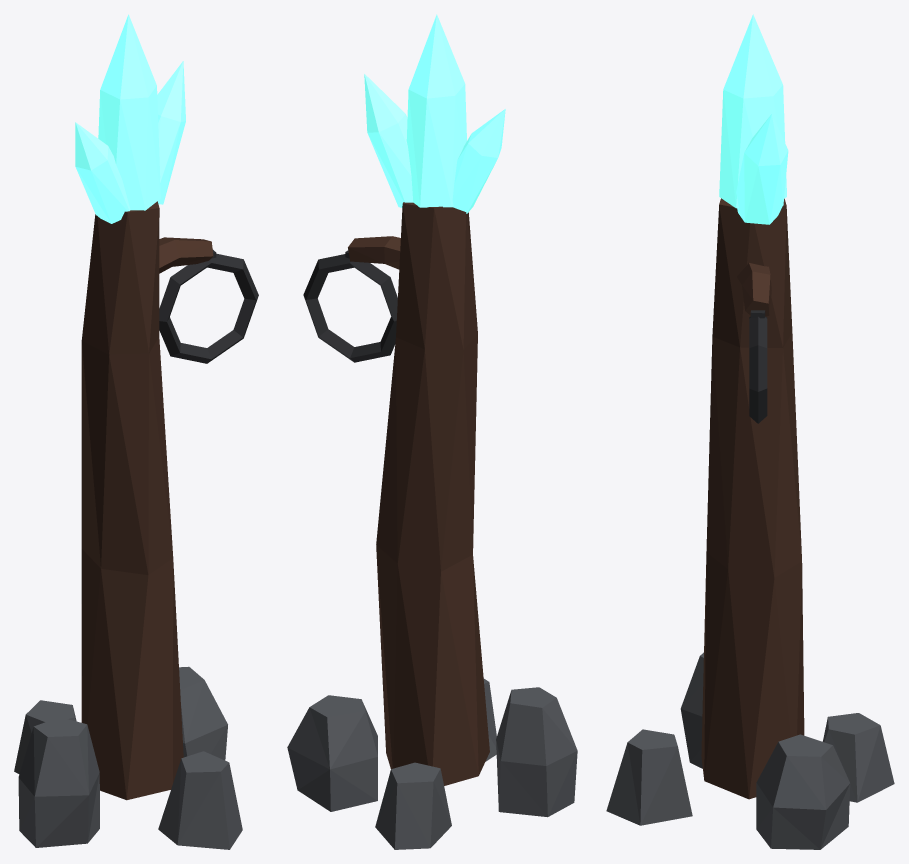
Rendered from CP_ExtractionMarker.fbx.
The picture shows the model from 3 angles, left to right: view 1: azimuth 30°, elevation 25°; view 2: azimuth 150°, elevation 25°; view 3: azimuth 270°, elevation 25°; orthographic projection.
Visible parts, largest first — view 1: CP_ExtractionMarker_Post, CP_ExtractionMarker_Stones, CP_ExtractionMarker_Neon_Beacon, CP_ExtractionMarker_Iron; view 2: CP_ExtractionMarker_Post, CP_ExtractionMarker_Stones, CP_ExtractionMarker_Neon_Beacon, CP_ExtractionMarker_Iron; view 3: CP_ExtractionMarker_Post, CP_ExtractionMarker_Stones, CP_ExtractionMarker_Neon_Beacon, CP_ExtractionMarker_Iron.
Boxes of the visible parts, x1,y1,x2,y2 form: CP_ExtractionMarker_Post: (81, 201, 213, 800); CP_ExtractionMarker_Stones: (14, 666, 242, 849); CP_ExtractionMarker_Neon_Beacon: (75, 14, 185, 223); CP_ExtractionMarker_Iron: (159, 249, 258, 363); CP_ExtractionMarker_Post: (348, 202, 489, 785); CP_ExtractionMarker_Stones: (287, 678, 577, 849); CP_ExtractionMarker_Neon_Beacon: (364, 14, 505, 213); CP_ExtractionMarker_Iron: (303, 250, 397, 362); CP_ExtractionMarker_Post: (701, 198, 804, 799); CP_ExtractionMarker_Stones: (606, 652, 894, 849); CP_ExtractionMarker_Neon_Beacon: (719, 14, 788, 224); CP_ExtractionMarker_Iron: (749, 310, 767, 423).
Size of the model in its own units: 3 by 9 by 3.
